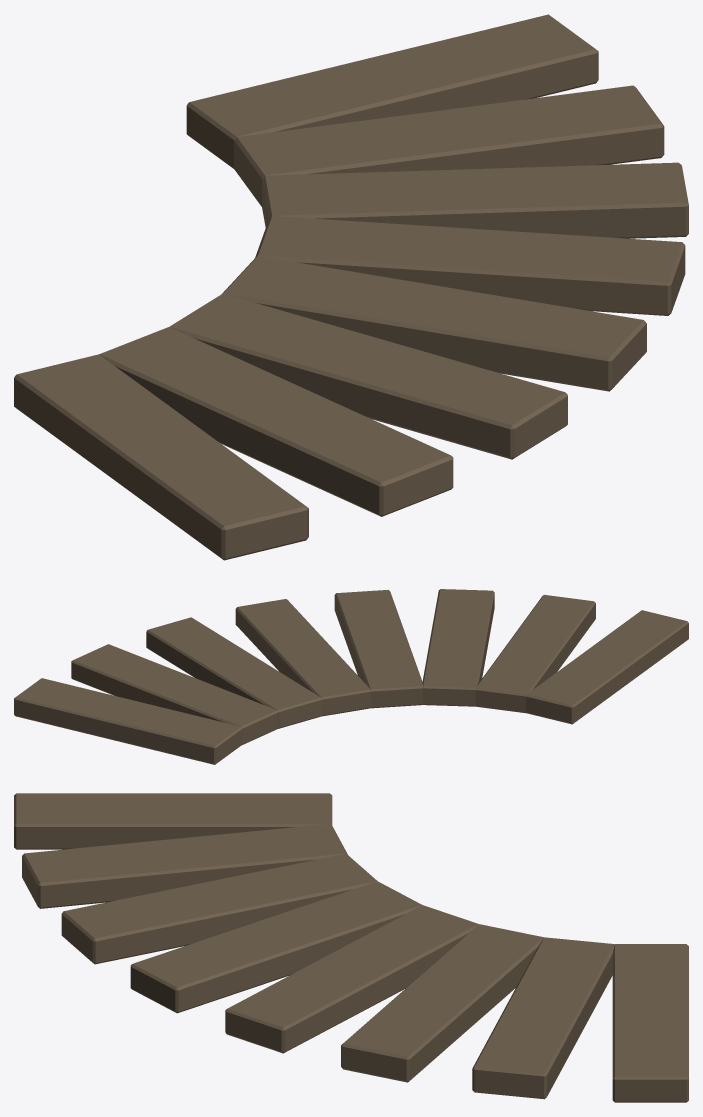
File: landscape-path-curve.lod0.glb
3 renders of one model, top to bottom at view 1: azimuth 30°, elevation 25°; view 2: azimuth 150°, elevation 25°; view 3: azimuth 270°, elevation 25°, orthographic. The views are drawn at different scales.
Visible parts, largest first — view 1: landscape-path-curve__body; view 2: landscape-path-curve__body; view 3: landscape-path-curve__body.
Boxes of the visible parts, box(x1,y1,x2,y2) form: landscape-path-curve__body: box(14, 14, 688, 560); landscape-path-curve__body: box(14, 589, 688, 764); landscape-path-curve__body: box(14, 793, 688, 1102).
Size of the model in its own units: 4.24 by 0.18 by 4.24.
